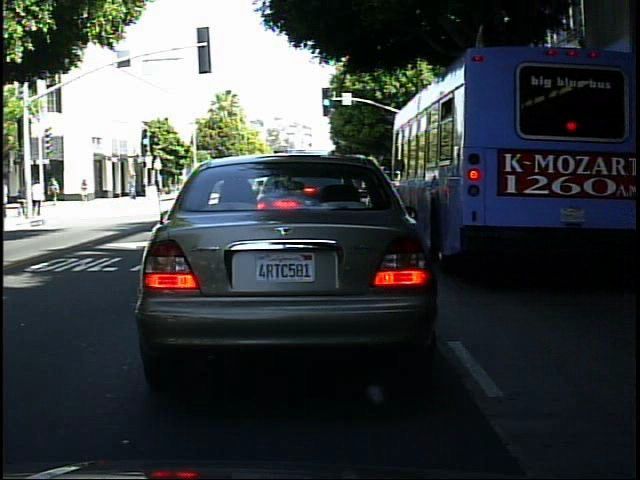person: (31, 176, 47, 219), (46, 173, 64, 207), (125, 170, 143, 204), (14, 179, 27, 221), (78, 173, 93, 207)
